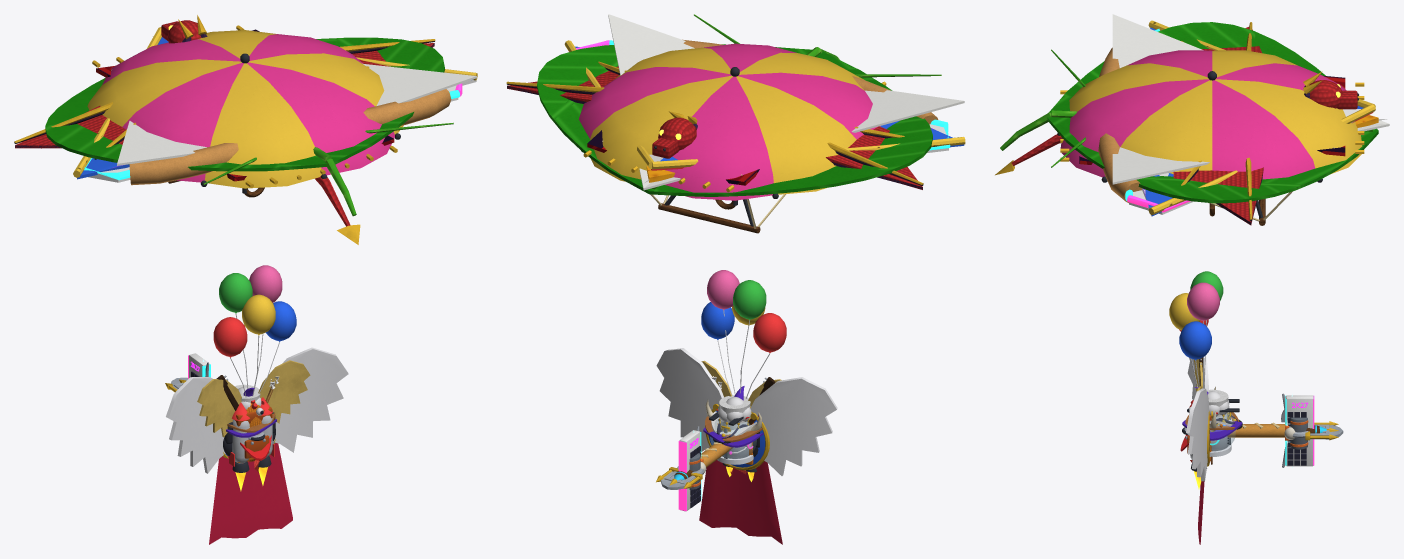
The model's file is cosmetiques_v2.glb.
3 views of the same model, side by side, from view 1: azimuth 30°, elevation 25°; view 2: azimuth 150°, elevation 25°; view 3: azimuth 270°, elevation 25° (orthographic). The views are drawn at different scales.
Parts seen in each view (by area): view 1: deltaplane_parapluie, dos_ailes, deltaplane_feuille, dos_ballons, dos_cape, deltaplane_papier, deltaplane_pizza, deltaplane_dragon, dos_fusee, deltaplane_classique, deltaplane_tapis, deltaplane_ecran2k27; view 2: deltaplane_parapluie, deltaplane_feuille, dos_ailes, deltaplane_papier, dos_cape, dos_ballons, deltaplane_dragon, deltaplane_tapis, deltaplane_classique, pioche_clavier, chapeau_bocal, deltaplane_pizza (+3 smaller); view 3: deltaplane_parapluie, deltaplane_feuille, deltaplane_papier, deltaplane_dragon, dos_ballons, dos_ailes, deltaplane_pizza, pioche_clavier, deltaplane_classique, deltaplane_tapis, pioche_baguette, chapeau_bocal (+1 smaller).
Boxes of the visible parts, x1,y1,x2,y2 form: deltaplane_parapluie: (87, 30, 403, 197); dos_ailes: (166, 347, 348, 473); deltaplane_feuille: (45, 37, 453, 216); dos_ballons: (213, 265, 296, 397); dos_cape: (209, 443, 292, 544); deltaplane_papier: (117, 63, 476, 165); deltaplane_pizza: (129, 89, 451, 185); deltaplane_dragon: (14, 15, 435, 244); dos_fusee: (229, 397, 274, 491); deltaplane_classique: (73, 27, 477, 179); deltaplane_tapis: (92, 25, 397, 187); deltaplane_ecran2k27: (84, 83, 462, 182); deltaplane_parapluie: (579, 43, 880, 209); deltaplane_feuille: (537, 14, 941, 196); dos_ailes: (656, 348, 837, 475); deltaplane_papier: (608, 14, 964, 190); dos_cape: (699, 404, 782, 544); dos_ballons: (701, 270, 786, 398); deltaplane_dragon: (506, 61, 923, 189); deltaplane_tapis: (583, 81, 886, 233); deltaplane_classique: (564, 40, 965, 169); pioche_clavier: (678, 430, 701, 511); chapeau_bocal: (710, 418, 756, 464); deltaplane_pizza: (646, 39, 938, 182); deltaplane_parapluie: (1057, 50, 1364, 216); deltaplane_feuille: (1000, 22, 1378, 203); deltaplane_papier: (1112, 14, 1389, 184); deltaplane_dragon: (995, 22, 1358, 225); dos_ballons: (1169, 271, 1223, 388); dos_ailes: (1186, 355, 1208, 481); deltaplane_pizza: (1098, 47, 1378, 202); pioche_clavier: (1285, 395, 1314, 466); deltaplane_classique: (1142, 20, 1375, 216); deltaplane_tapis: (1060, 75, 1364, 225); pioche_baguette: (1227, 422, 1284, 437); chapeau_bocal: (1209, 412, 1235, 456).
Bounding box in the file's own units: 4.2 × 4.56 × 3.57.
116 materials, 95 textured.
